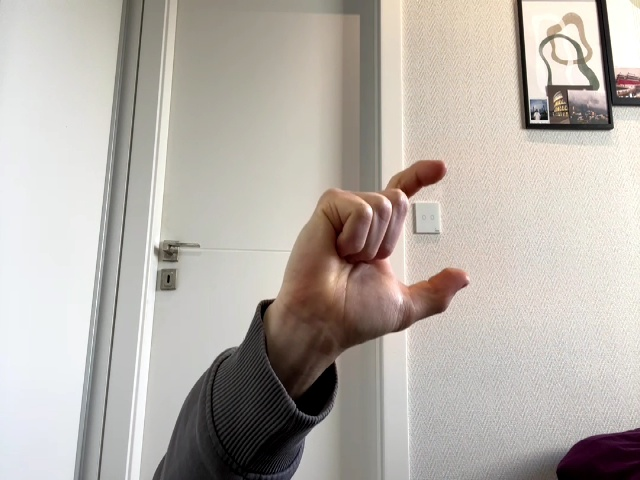C: (278, 159, 469, 345)
